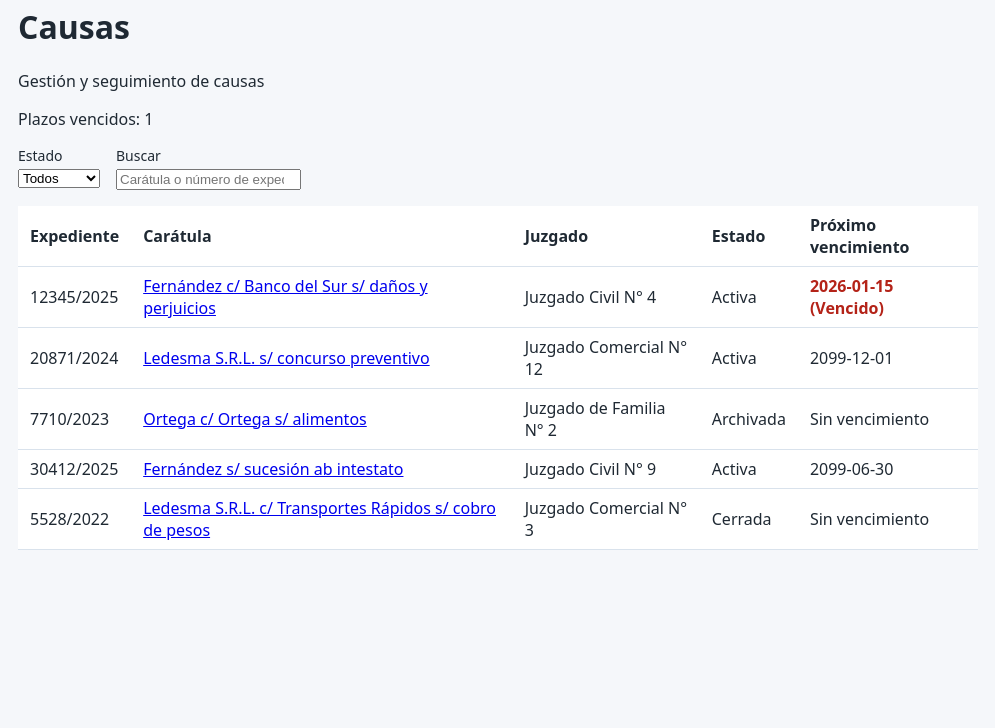
Test case: App › navigates from the list to the case detail
The width and height of the screenshot is (995, 728).
Click the link "Fernández s/ sucesión ab intestato": (273, 469) [143,458,404,480]
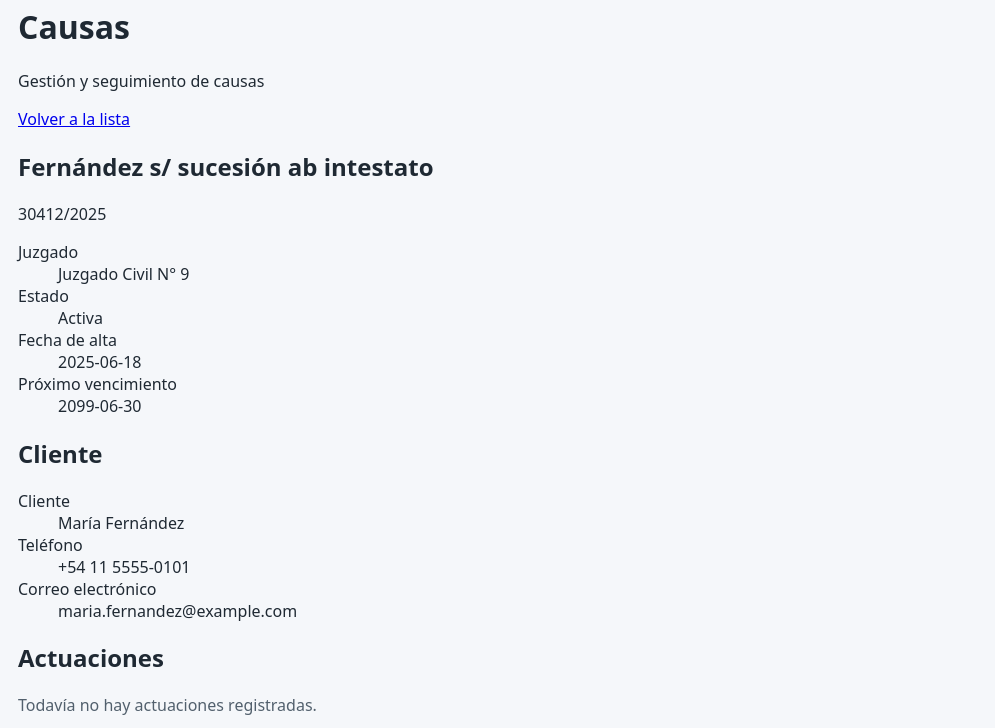
Expected: the heading "Fernández s/ sucesión ab intestato" is shown, [18,150,434,183]
Result: the text "Todavía no hay actuaciones registradas." is shown at [18,694,317,716]
